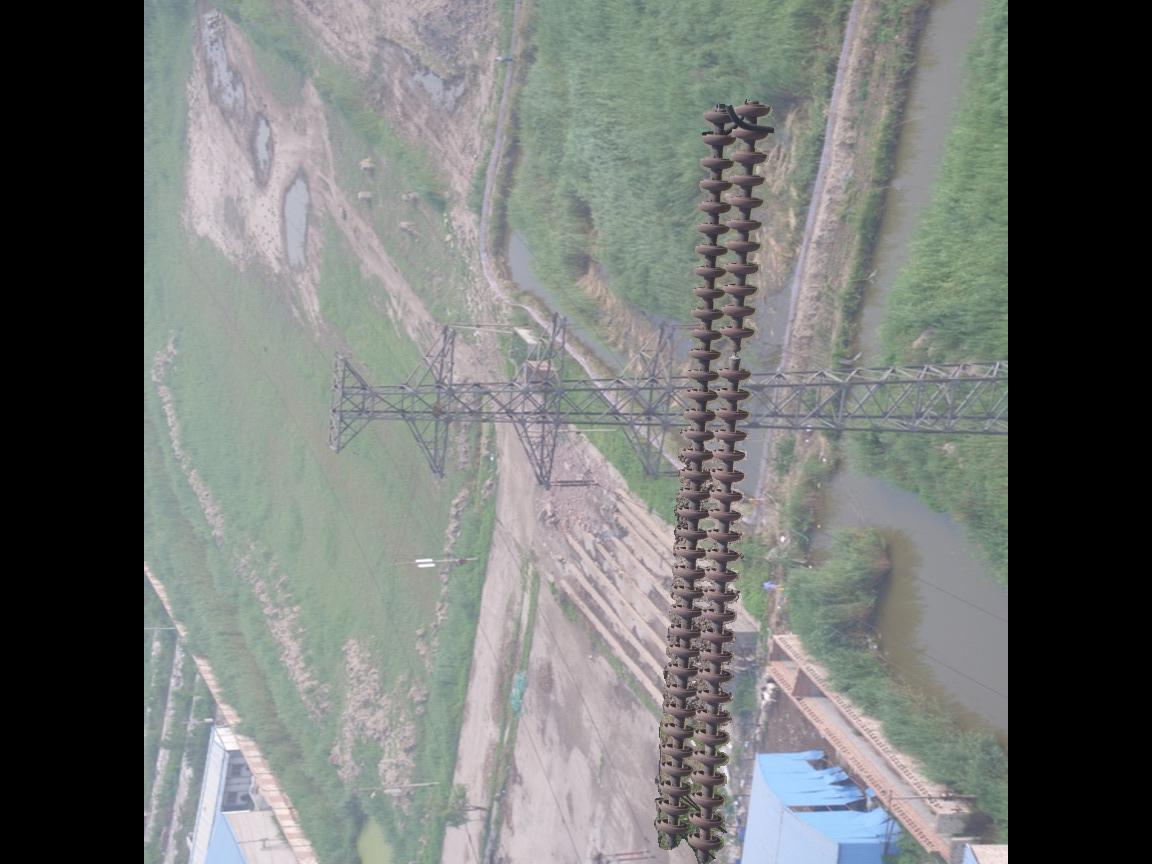insulator: (646, 96, 778, 864)
insulator_stringdrop: (714, 323, 757, 382)
